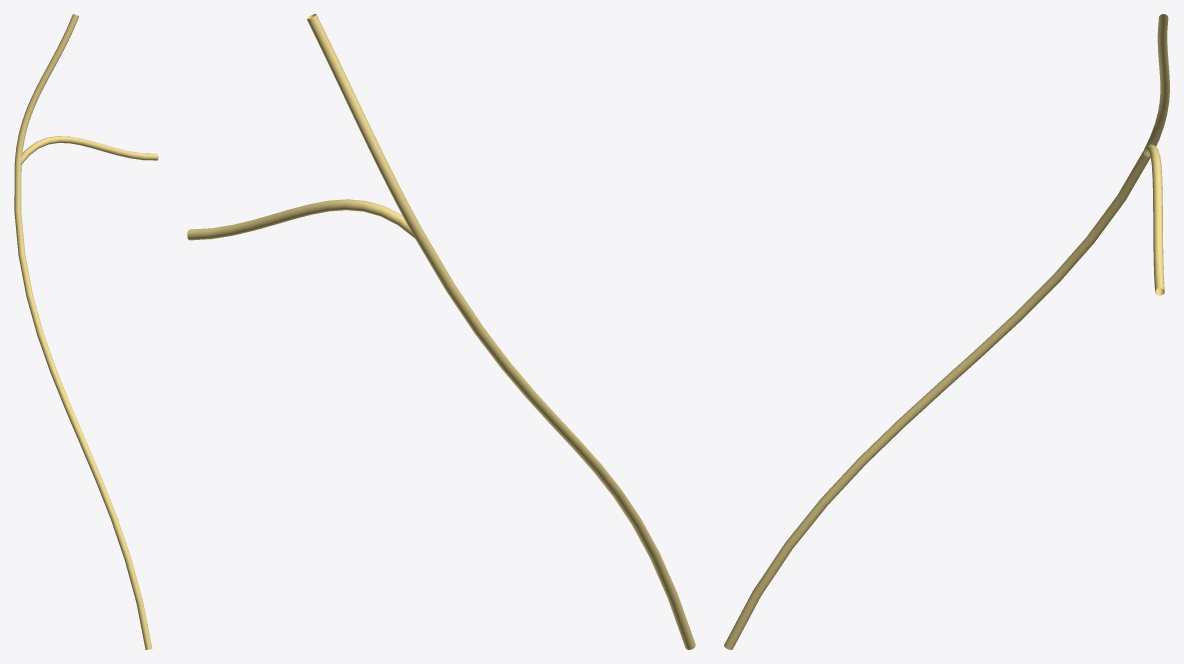
3 renders of one model, left to right at view 1: azimuth 30°, elevation 25°; view 2: azimuth 150°, elevation 25°; view 3: azimuth 270°, elevation 25°, orthographic. The views are drawn at different scales.
Visible parts, largest first — view 1: ZA_e9a488ffc5353769; view 2: ZA_e9a488ffc5353769; view 3: ZA_e9a488ffc5353769.
Boxes of the visible parts, bbox=[...] form: ZA_e9a488ffc5353769: bbox=[14, 14, 158, 649]; ZA_e9a488ffc5353769: bbox=[187, 14, 695, 649]; ZA_e9a488ffc5353769: bbox=[724, 14, 1169, 649].
Bounding box in the file's own units: 0.0282 × 0.0783 × 0.0459.
